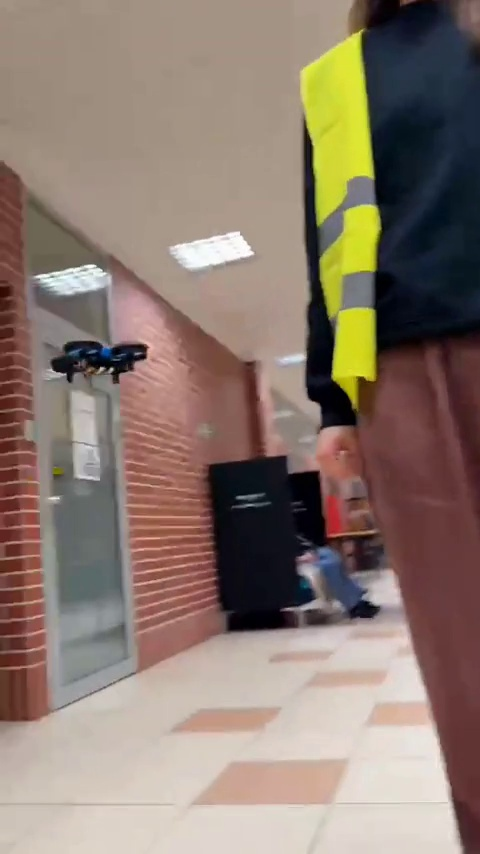drone: (47, 339, 146, 382)
vest: (292, 60, 480, 824)
